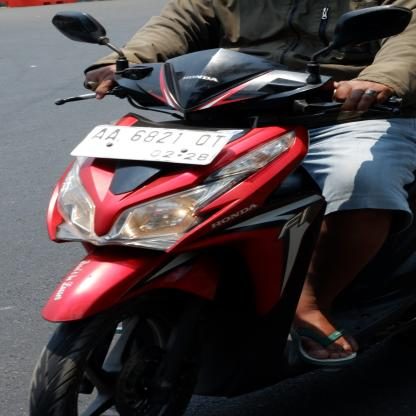Plat-Nomor: (71, 122, 234, 169)
